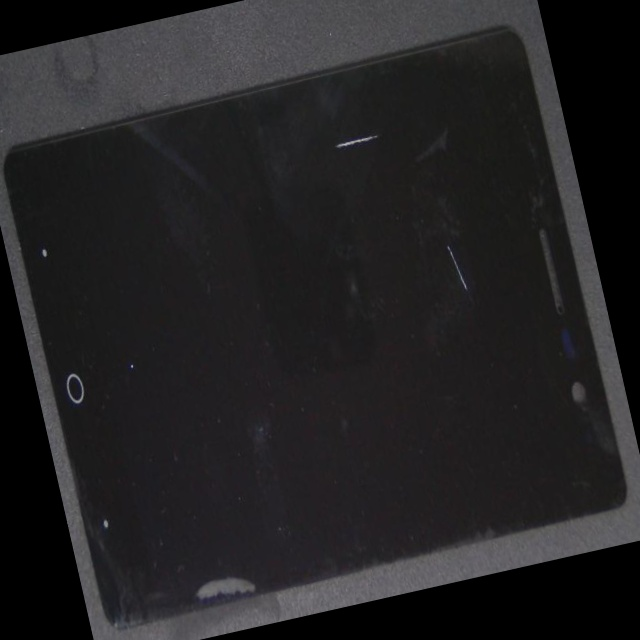scratch: (215, 51, 612, 406), (202, 12, 572, 231)
